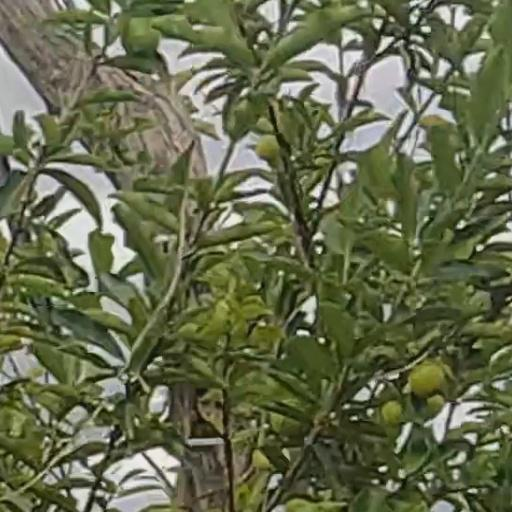acerola: (125, 17, 160, 57), (412, 362, 441, 394), (383, 401, 411, 420), (256, 135, 276, 159)
